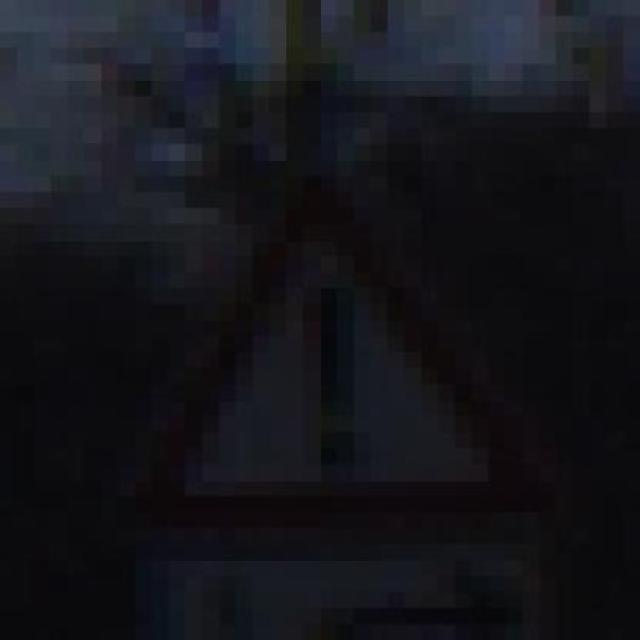Attention Please-: (88, 205, 544, 540)
